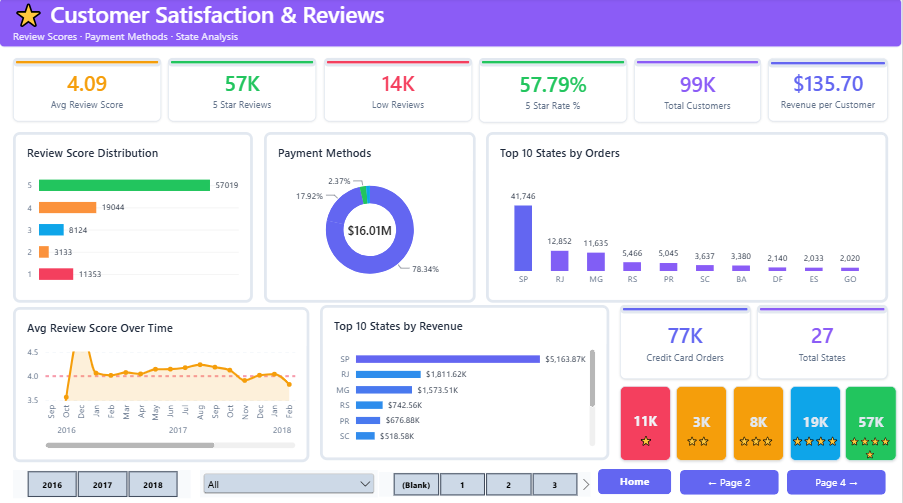

The page's visual inventory and layout, read from the dashboard file:
{"tool":"powerbi","page":{"name":"Customer & Reviews","canvas":[1280,720],"ordinal":2},"visuals":[{"type":"shape","box":[0,0,1280,70],"z":0},{"type":"textbox","box":[19.7,0,700.8,64.4],"z":1000},{"type":"textbox","box":[20,44,700,20],"z":2000},{"type":"card","fields":{"Values":["Orders.Avg Review Score"]},"box":[20,85,210,90],"z":3000},{"type":"card","fields":{"Values":["Orders.5 Star Rate %"]},"box":[680,85.8,210,90],"z":4000},{"type":"card","fields":{"Values":["Orders.Low Reviews"]},"box":[460,85,210,90],"z":5000},{"type":"card","fields":{"Values":["Orders.5 Star Reviews"]},"box":[240,85,210,90],"z":6000},{"type":"card","fields":{"Values":["Orders.Total Customers"]},"box":[900,85.8,180,90],"z":7000},{"type":"shape","box":[20,85,210,12],"z":8000},{"type":"shape","box":[240,85,210,12],"z":9000},{"type":"shape","box":[460,85,210,12],"z":10000},{"type":"shape","box":[680,85,210,12],"z":11000},{"type":"shape","box":[900,85,180,12],"z":12000},{"type":"lineChart","title":"Avg Review Score Over Time","fields":{"Category":["DateTable.Year","DateTable.Month"],"Y":["Orders.Avg Review Score"]},"box":[20,438,420,220],"z":13000},{"type":"donutChart","title":"Payment Methods","fields":{"Category":["Payments.payment_type"],"Y":["Orders.Total Payment"]},"box":[375,190,300,242],"z":14000},{"type":"clusteredBarChart","title":"Review Score Distribution","fields":{"Category":["Reviews.review_score"],"Y":["CountNonNull(Reviews.review_score)"]},"box":[20,190,340,242],"z":15000},{"type":"clusteredColumnChart","title":"Top 10 States by Orders","fields":{"Category":["Customers.customer_state"],"Y":["Orders.Total Orders"]},"box":[690,190,570,242],"z":16000},{"type":"slicer","fields":{"Values":["DateTable.Year"]},"box":[20,669,252.3,39.7],"z":17000},{"type":"slicer","fields":{"Values":["Customers.customer_state"]},"box":[284.6,669.5,252,39],"z":18000},{"type":"actionButton","box":[1117.3,668.6,140,35],"z":19000},{"type":"clusteredBarChart","title":"Top 10 States by Revenue","fields":{"Category":["Customers.customer_state"],"Y":["Orders.Total Revenue"]},"box":[455,435,410,220],"z":20000},{"type":"actionButton","box":[965.4,668.6,140,35],"z":21000},{"type":"card","fields":{"Values":["Orders.Revenue per Customer"]},"box":[1090,85,170,90],"z":22000},{"type":"shape","box":[1090,85.8,170,12],"z":23000},{"type":"card","fields":{"Values":["Orders.Credit Card Orders"]},"box":[880,435,185,105],"z":24000},{"type":"card","fields":{"Values":["Orders.Total States"]},"box":[1075,435,185,105],"z":25000},{"type":"shape","box":[880.8,435,185,12],"z":26000},{"type":"shape","box":[1075,435,185,12],"z":27000},{"type":"card","fields":{"Values":["Orders.Score 1 Count"]},"box":[880.8,549.6,71.6,105.6],"z":28000},{"type":"card","fields":{"Values":["Orders.Score 2 Count"]},"box":[959.6,549.6,71.6,105.6],"z":29000},{"type":"card","fields":{"Values":["Orders.Score 3 Count"]},"box":[1040.1,549.6,71.6,105.6],"z":30000},{"type":"card","fields":{"Values":["Orders.Score 4 Count"]},"box":[1120.7,549.6,71.6,105.6],"z":31000},{"type":"card","fields":{"Values":["Orders.Score 5 Count"]},"box":[1199.4,549.6,73.4,105.6],"z":32000},{"type":"textbox","box":[897,616,39.4,39.4],"z":33000},{"type":"textbox","box":[964,616,53.9,39.7],"z":34000},{"type":"textbox","box":[1046,616,53.9,39.7],"z":35000},{"type":"textbox","box":[1123,616,68,39.7],"z":36000},{"type":"textbox","box":[1201,616,68,39.7],"z":37000},{"type":"slicer","fields":{"Values":["Reviews.review_score"]},"box":[538.9,671.3,300,35],"z":38000},{"type":"actionButton","box":[848.6,667.7,103.8,35.8],"z":39000}]}

Visuals, with their boxes in screenshot pixels (x1, y1, x2, y2), scaled from the page's 1280x720 canvas onto the 903x503 screenshot:
shape: pyautogui.locateOnScreen(0, 0, 902, 49)
textbox: pyautogui.locateOnScreen(14, 0, 508, 45)
textbox: pyautogui.locateOnScreen(14, 31, 508, 45)
card - Orders.Avg Review Score: pyautogui.locateOnScreen(14, 59, 162, 122)
card - Orders.5 Star Rate %: pyautogui.locateOnScreen(480, 60, 628, 123)
card - Orders.Low Reviews: pyautogui.locateOnScreen(325, 59, 473, 122)
card - Orders.5 Star Reviews: pyautogui.locateOnScreen(169, 59, 317, 122)
card - Orders.Total Customers: pyautogui.locateOnScreen(635, 60, 762, 123)
shape: pyautogui.locateOnScreen(14, 59, 162, 68)
shape: pyautogui.locateOnScreen(169, 59, 317, 68)
shape: pyautogui.locateOnScreen(325, 59, 473, 68)
shape: pyautogui.locateOnScreen(480, 59, 628, 68)
shape: pyautogui.locateOnScreen(635, 59, 762, 68)
"Avg Review Score Over Time" lineChart: pyautogui.locateOnScreen(14, 306, 310, 460)
"Payment Methods" donutChart: pyautogui.locateOnScreen(265, 133, 476, 302)
"Review Score Distribution" clusteredBarChart: pyautogui.locateOnScreen(14, 133, 254, 302)
"Top 10 States by Orders" clusteredColumnChart: pyautogui.locateOnScreen(487, 133, 889, 302)
slicer - DateTable.Year: pyautogui.locateOnScreen(14, 467, 192, 495)
slicer - Customers.customer_state: pyautogui.locateOnScreen(201, 468, 379, 495)
actionButton: pyautogui.locateOnScreen(788, 467, 887, 492)
"Top 10 States by Revenue" clusteredBarChart: pyautogui.locateOnScreen(321, 304, 610, 458)
actionButton: pyautogui.locateOnScreen(681, 467, 780, 492)
card - Orders.Revenue per Customer: pyautogui.locateOnScreen(769, 59, 889, 122)
shape: pyautogui.locateOnScreen(769, 60, 889, 68)
card - Orders.Credit Card Orders: pyautogui.locateOnScreen(621, 304, 751, 377)
card - Orders.Total States: pyautogui.locateOnScreen(758, 304, 889, 377)
shape: pyautogui.locateOnScreen(621, 304, 752, 312)
shape: pyautogui.locateOnScreen(758, 304, 889, 312)
card - Orders.Score 1 Count: pyautogui.locateOnScreen(621, 384, 672, 458)
card - Orders.Score 2 Count: pyautogui.locateOnScreen(677, 384, 727, 458)
card - Orders.Score 3 Count: pyautogui.locateOnScreen(734, 384, 784, 458)
card - Orders.Score 4 Count: pyautogui.locateOnScreen(791, 384, 841, 458)
card - Orders.Score 5 Count: pyautogui.locateOnScreen(846, 384, 898, 458)
textbox: pyautogui.locateOnScreen(633, 430, 661, 458)
textbox: pyautogui.locateOnScreen(680, 430, 718, 458)
textbox: pyautogui.locateOnScreen(738, 430, 776, 458)
textbox: pyautogui.locateOnScreen(792, 430, 840, 458)
textbox: pyautogui.locateOnScreen(847, 430, 895, 458)
slicer - Reviews.review_score: pyautogui.locateOnScreen(380, 469, 592, 493)
actionButton: pyautogui.locateOnScreen(599, 466, 672, 491)
